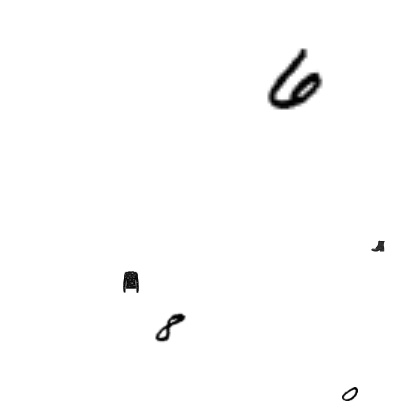0: (339, 383, 361, 405)
6: (250, 43, 334, 127)
8: (148, 305, 190, 347)
Ankle_boot: (371, 239, 385, 253)
Pullover: (120, 271, 142, 293)
